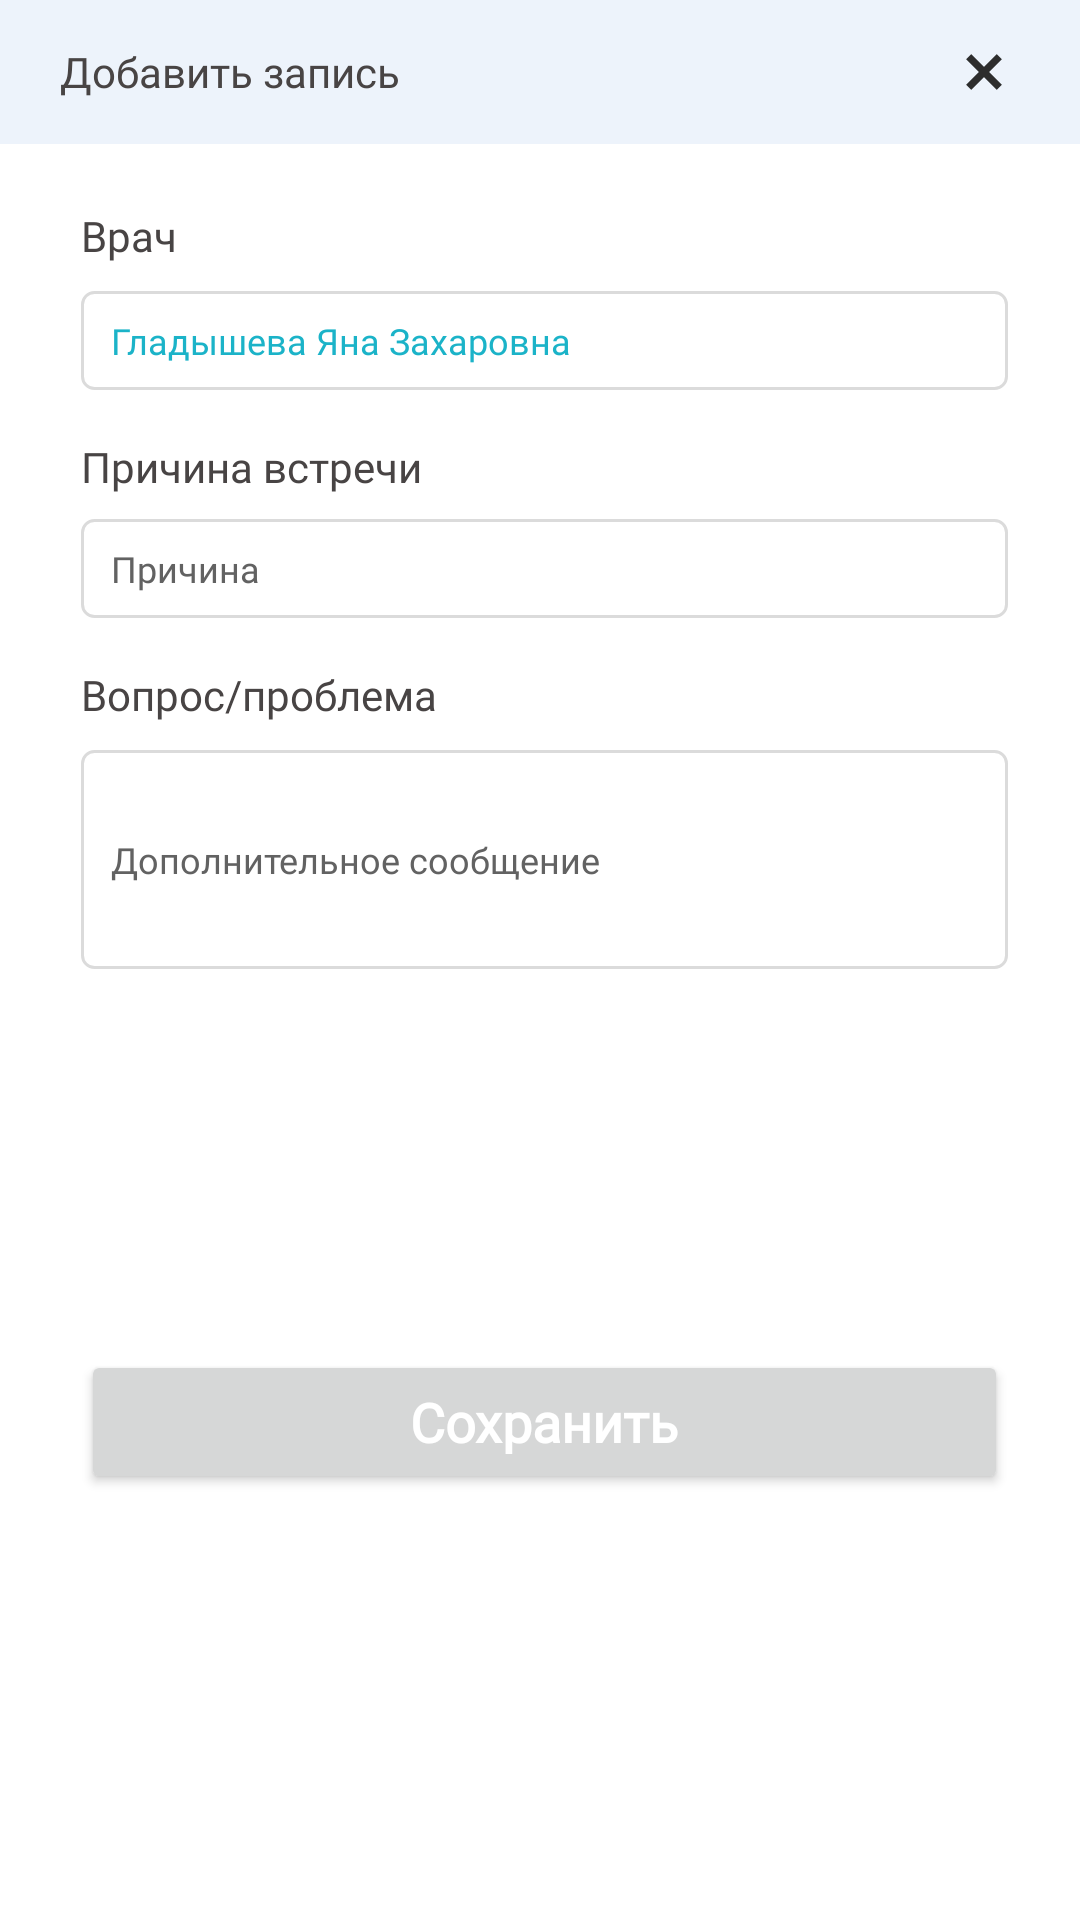

Named icons in this screenshot (1080 x 1920) and their centers, (x,y):
close: (984,72)
